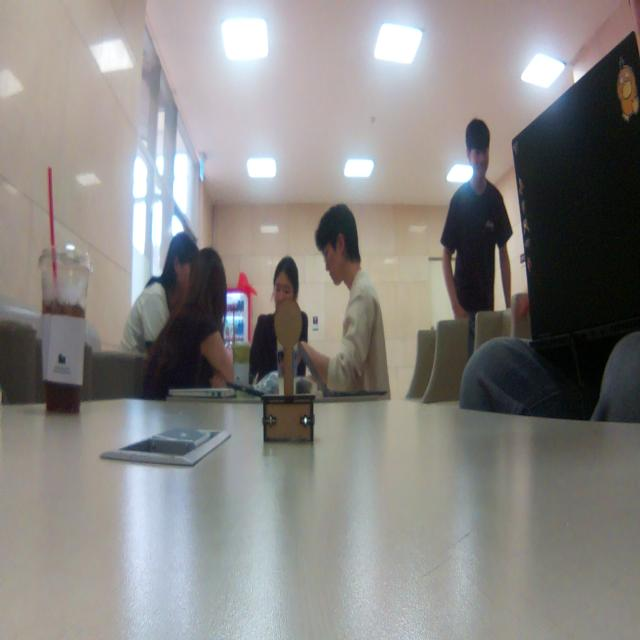target: (261, 298, 315, 444)
